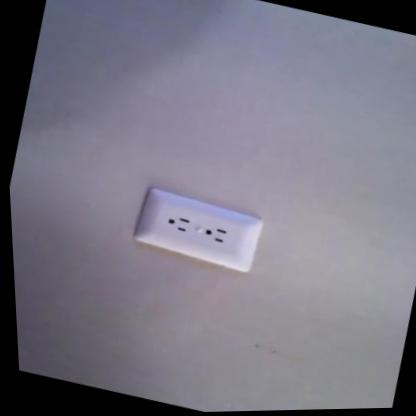OUTLET: (132, 184, 265, 277)
